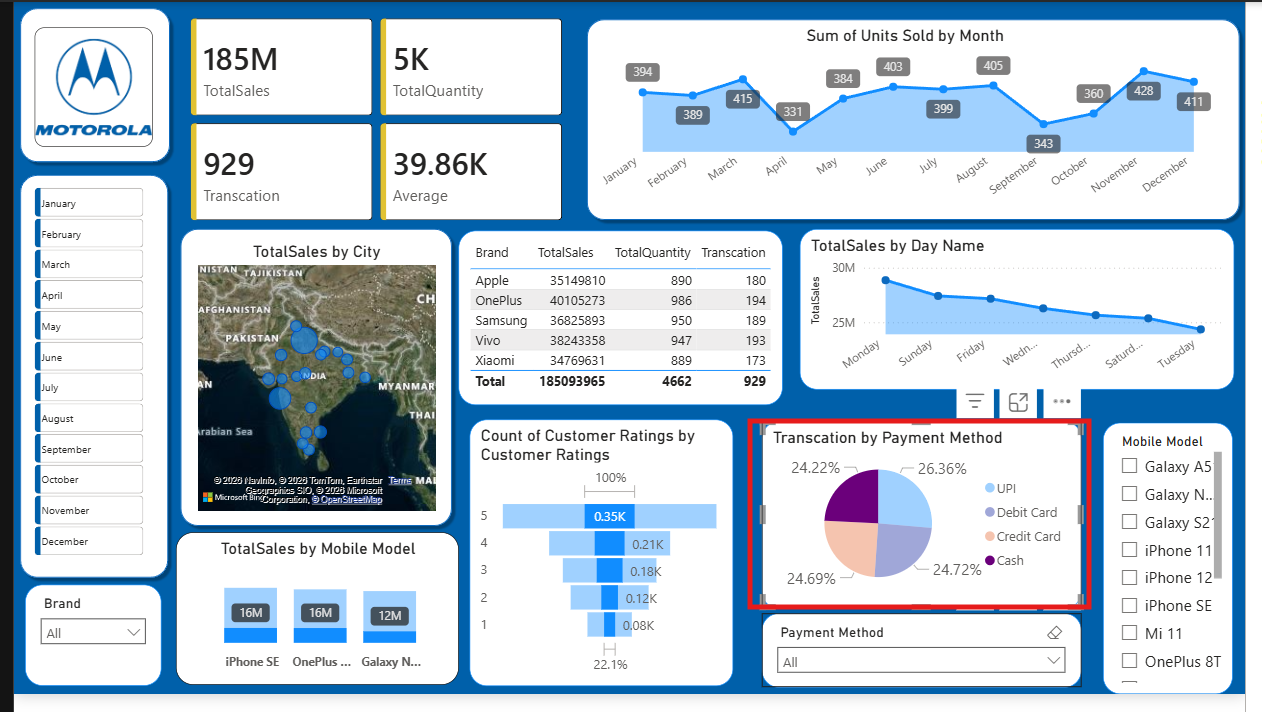

What the dashboard file says about the page in this screenshot:
{"tool":"powerbi","page":{"name":"Page 1","canvas":[1280,720],"ordinal":0},"visuals":[{"type":"shape","box":[0,0,168.6,172.9],"z":0},{"type":"image","box":[21.4,25.7,122.9,124.3],"z":1000},{"type":"shape","box":[166.7,230,295,321.7],"z":2000},{"type":"shape","box":[0,173.3,166.7,431.7],"z":3000},{"type":"advancedSlicerVisual","fields":{"Values":["MobileSalesData.Date.Variation.Date Hierarchy.Month"]},"box":[16.7,188.3,136.7,393.3],"z":4000},{"type":"cardVisual","fields":{"Data":["MobileSalesData.TotalSales","MobileSalesData.TotalQuantity","MobileSalesData.Transcation","MobileSalesData.Average"]},"box":[167.1,0,421.4,245.7],"z":5000},{"type":"map","fields":{"Size":["MobileSalesData.TotalSales"],"Category":["MobileSalesData.City"]},"box":[186.7,250,256.7,285],"z":6000},{"type":"shape","box":[588.6,11.4,691.4,221.4],"z":7000},{"type":"lineChart","fields":{"Y":["Sum(MobileSalesData.Units Sold)"],"Category":["MobileSalesData.Date.Variation.Date Hierarchy.Month","MobileSalesData.Date.Variation.Date Hierarchy.Day"]},"box":[600,25,651.7,190],"z":8000},{"type":"clusteredColumnChart","fields":{"Y":["MobileSalesData.TotalSales"],"Category":["MobileSalesData.Mobile Model"]},"box":[168.6,551.4,294.3,158.6],"z":9000},{"type":"pieChart","fields":{"Category":["MobileSalesData.Payment Method"],"Y":["MobileSalesData.Transcation"]},"box":[777.5,435,332.5,195],"z":10000},{"type":"funnel","fields":{"Category":["MobileSalesData.Customer Ratings"],"Y":["CountNonNull(MobileSalesData.Customer Ratings)"]},"box":[474.3,434.3,274.3,277.1],"z":11000},{"type":"tableEx","fields":{"Values":["MobileSalesData.Brand","MobileSalesData.TotalSales","MobileSalesData.TotalQuantity","MobileSalesData.Transcation"]},"box":[462.9,237.1,337.1,181.4],"z":12000},{"type":"lineChart","fields":{"Category":["MobileSalesData.Day Name"],"Y":["MobileSalesData.TotalSales"]},"box":[817.1,235.7,451.4,167.1],"z":13000},{"type":"slicer","fields":{"Values":["MobileSalesData.Mobile Model"]},"box":[1132.5,437.5,135,282.5],"z":14000},{"type":"slicer","fields":{"Values":["MobileSalesData.Payment Method"]},"box":[777.5,635,332.5,77.5],"z":15000},{"type":"slicer","fields":{"Values":["MobileSalesData.Brand"]},"box":[11.7,605,141.7,105],"z":16000}]}

Visuals, with their boxes in screenshot pixels (x1, y1, x2, y2):
shape: [left=3, top=0, right=167, bottom=162]
image: [left=24, top=18, right=144, bottom=139]
shape: [left=165, top=217, right=452, bottom=530]
shape: [left=3, top=162, right=165, bottom=582]
advancedSlicerVisual - MobileSalesData.Date.Variation.Date Hierarchy.Month: [left=20, top=177, right=152, bottom=559]
cardVisual - MobileSalesData.TotalSales x MobileSalesData.TotalQuantity: [left=166, top=0, right=575, bottom=232]
map - MobileSalesData.TotalSales x MobileSalesData.City: [left=185, top=237, right=434, bottom=514]
shape: [left=576, top=5, right=1248, bottom=220]
lineChart - Sum(MobileSalesData.Units Sold) x MobileSalesData.Date.Variation.Date Hierarchy.Month: [left=587, top=18, right=1220, bottom=202]
clusteredColumnChart - MobileSalesData.TotalSales x MobileSalesData.Mobile Model: [left=167, top=530, right=453, bottom=684]
pieChart - MobileSalesData.Payment Method x MobileSalesData.Transcation: [left=759, top=416, right=1083, bottom=606]
funnel - MobileSalesData.Customer Ratings x CountNonNull(MobileSalesData.Customer Ratings): [left=464, top=416, right=731, bottom=685]
tableEx - MobileSalesData.Brand x MobileSalesData.TotalSales: [left=453, top=224, right=781, bottom=400]
lineChart - MobileSalesData.Day Name x MobileSalesData.TotalSales: [left=798, top=223, right=1237, bottom=385]
slicer - MobileSalesData.Mobile Model: [left=1104, top=419, right=1236, bottom=693]
slicer - MobileSalesData.Payment Method: [left=759, top=611, right=1083, bottom=686]
slicer - MobileSalesData.Brand: [left=15, top=582, right=152, bottom=684]
